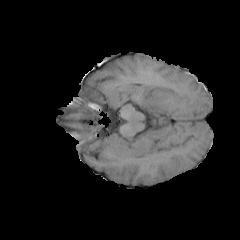glioma: (139, 80, 174, 110)
